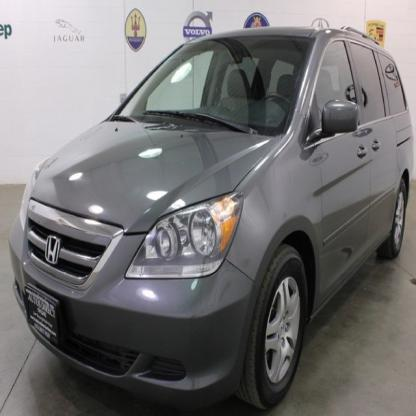Vehicle: (11, 27, 415, 415)
